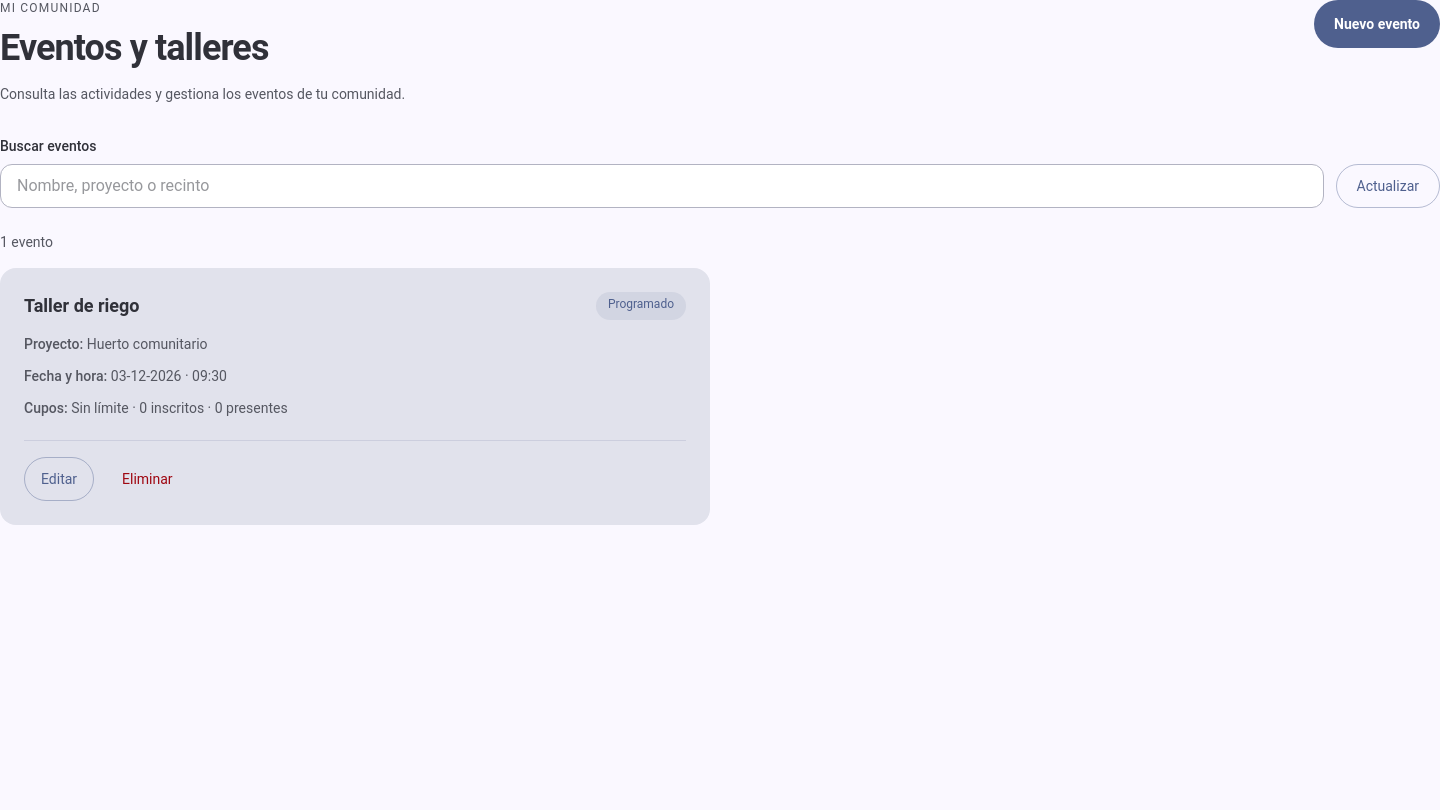
Test: gestión de eventos con HTTP y React Query › muestra conflicto si se agregó historial antes de confirmar la eliminación
Click the button named "Eliminar Taller de riego".
click(147, 479)  # box [106,457,189,501]
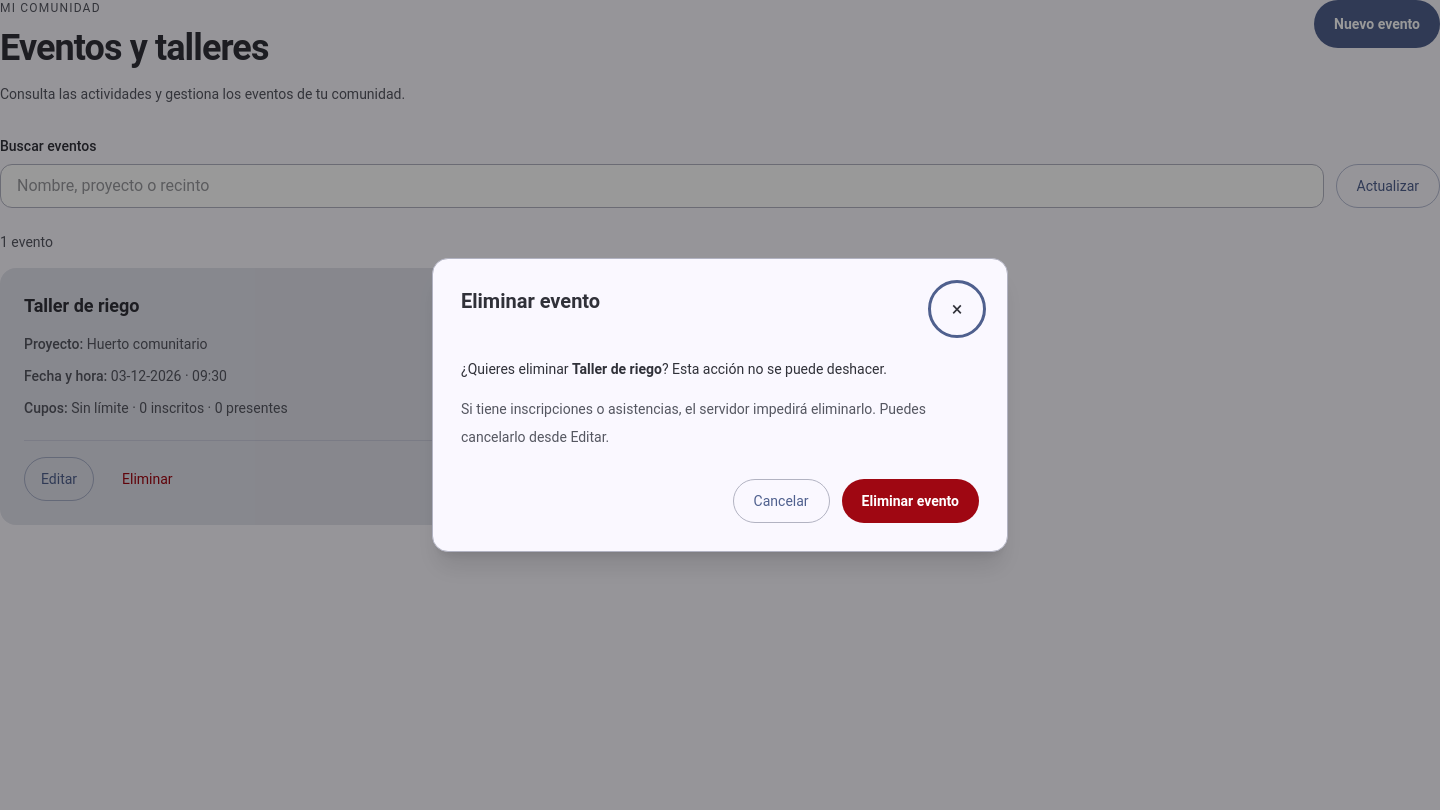
Click the button "Eliminar evento".
click(910, 501)  # box [842,479,979,523]
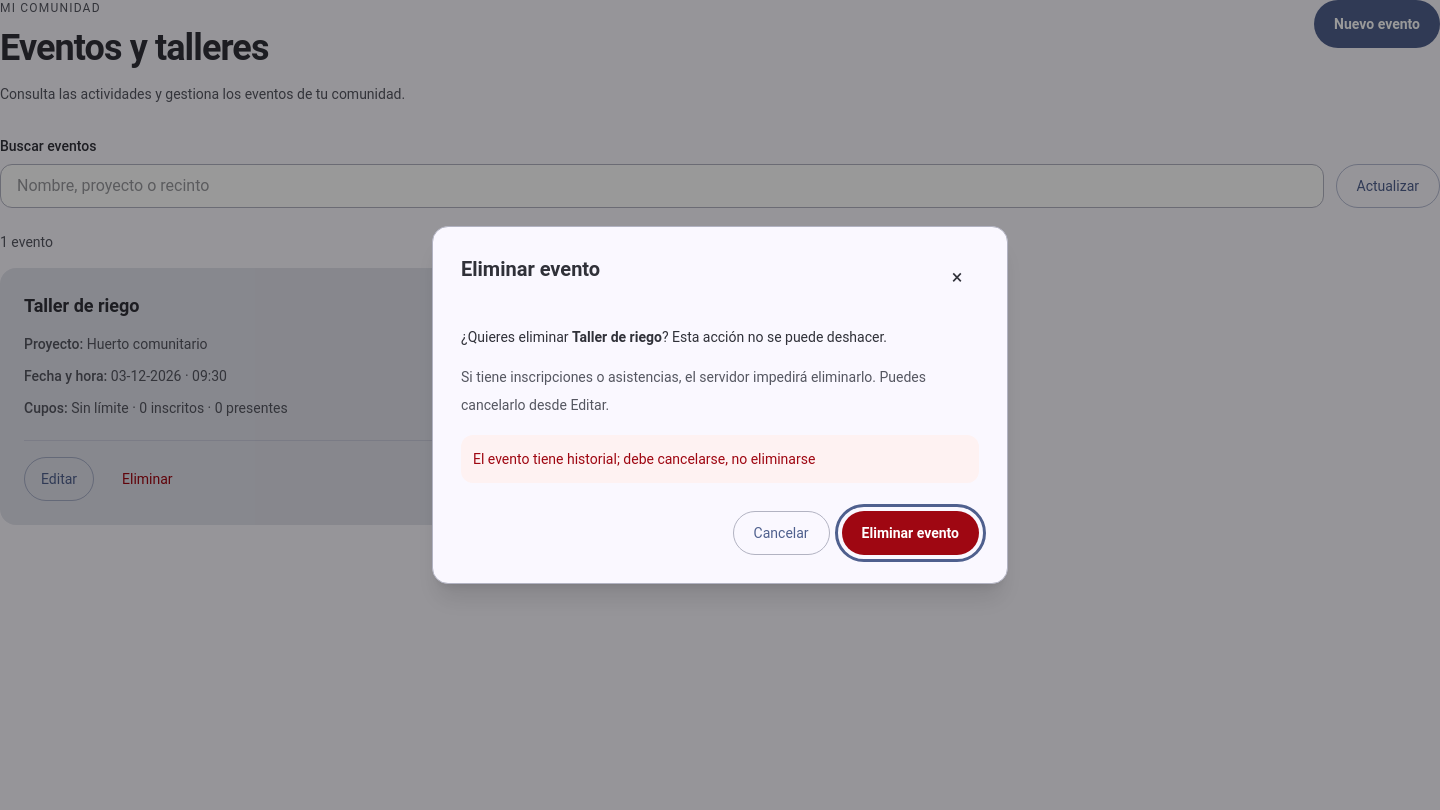
Now the message shows "debe cancelarse", box [473,451,815,467]
